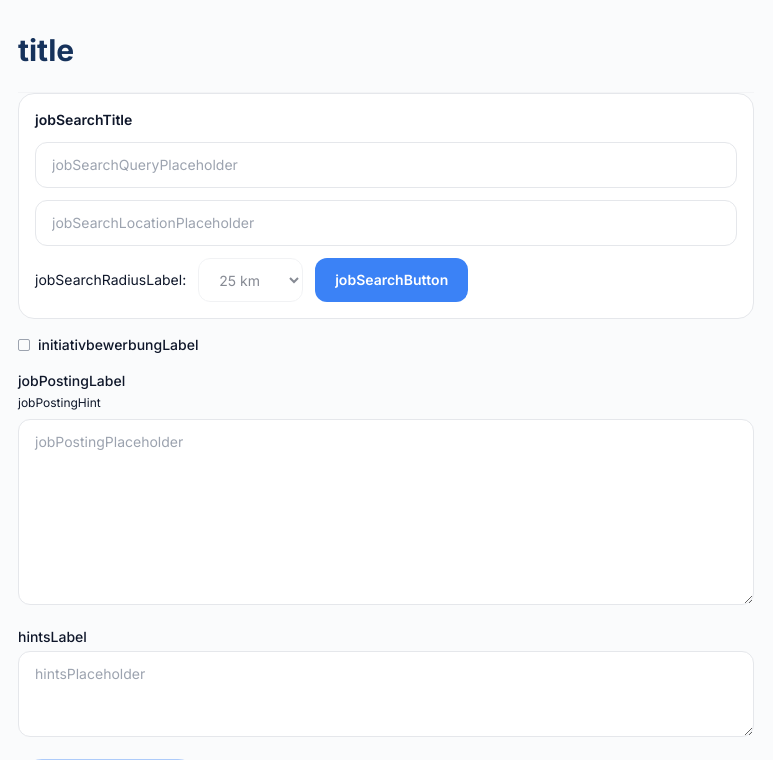
Test: GenerateForm › Generierungsflow › zeigt Lade-Animation während der Generierung
The width and height of the screenshot is (773, 760).
Step 1. Type "Stelle" into the text box labelled "jobPostingLabel" → point(386, 512), box [18, 419, 754, 605]
(page scrolled)
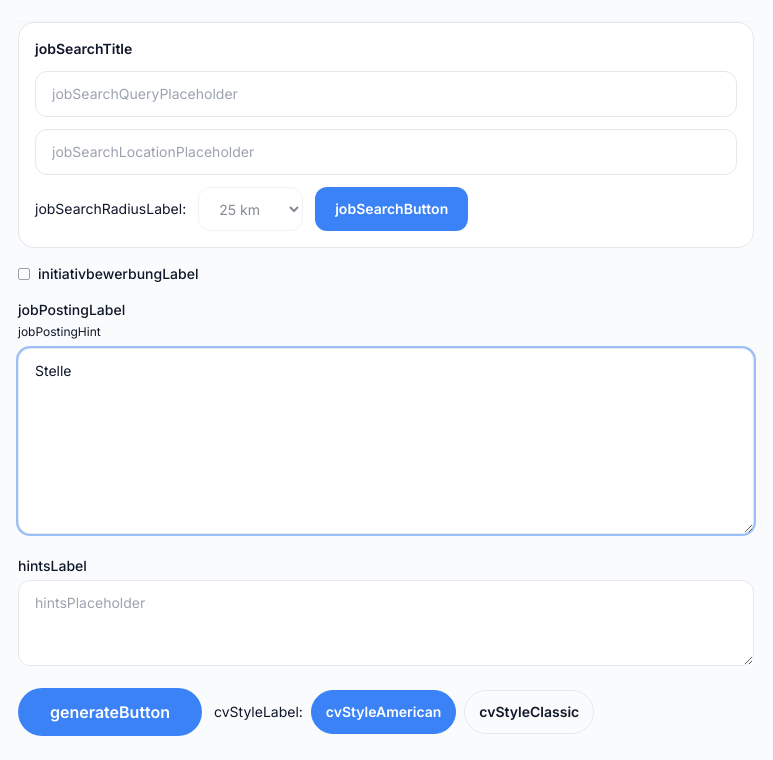
Step 2. Click the button "generateButton" → point(110, 712), box [18, 688, 202, 736]
(page scrolled)
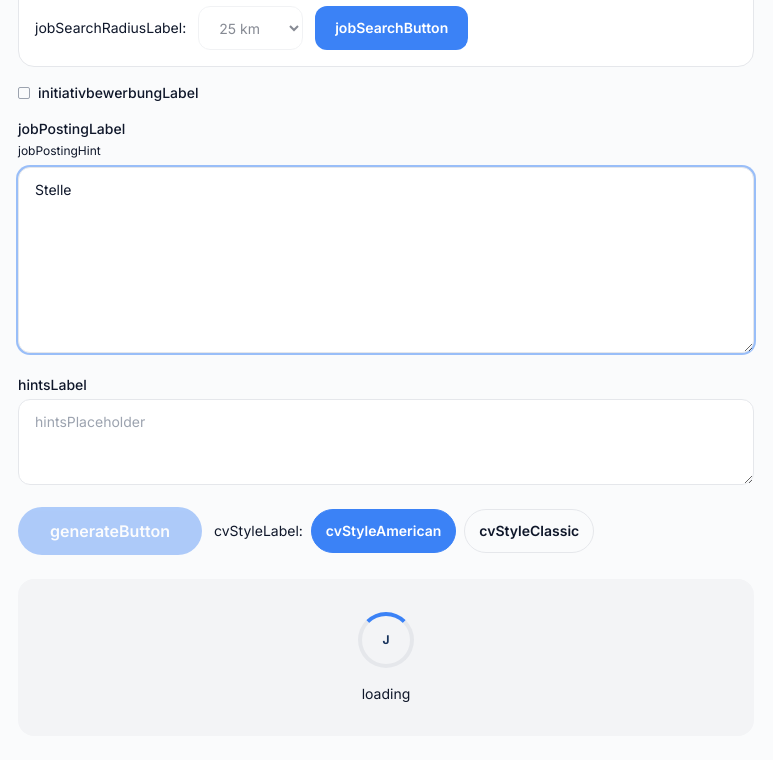
expect the element with test id "loading-animation" is shown: met, box [18, 579, 754, 736]
expect the text "loading" is shown: met, box [362, 684, 410, 704]
